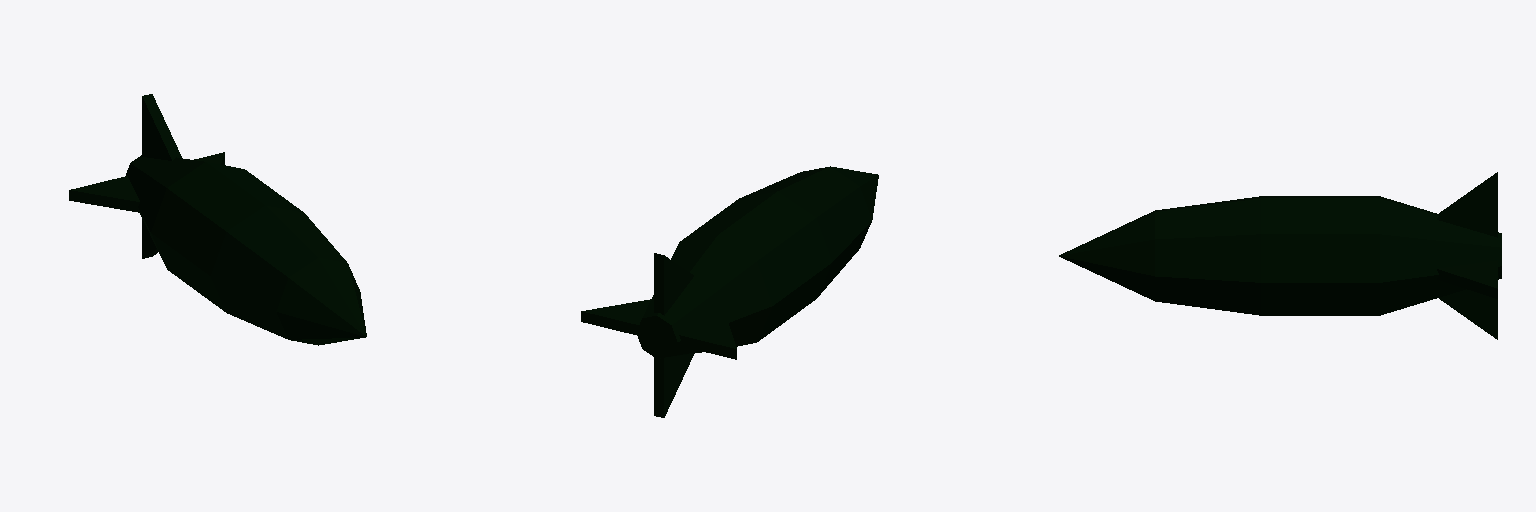
File: bomb.obj
3 renders of one model, left to right at view 1: azimuth 30°, elevation 25°; view 2: azimuth 150°, elevation 25°; view 3: azimuth 270°, elevation 25°, orthographic.
Visible parts, largest first — view 1: Circle; view 2: Circle; view 3: Circle.
Part boxes in pixels (bbox=[...]): Circle: bbox=[69, 94, 366, 345]; Circle: bbox=[581, 166, 878, 417]; Circle: bbox=[1059, 172, 1501, 339].
Bounding box in the file's own units: 0.7922 × 0.7922 × 1.96.